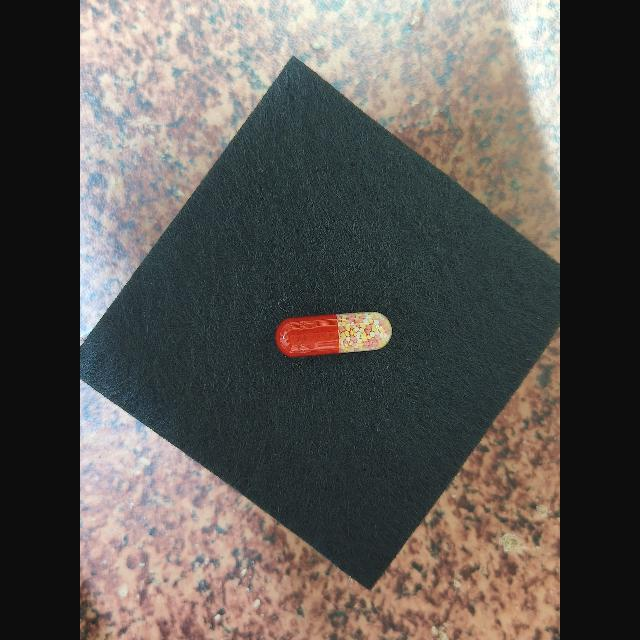Intact Capsule: (275, 312, 392, 357)
